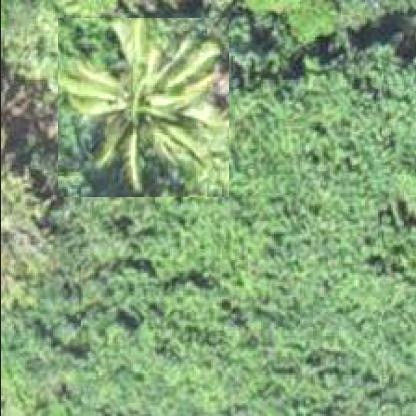coconut tree: (57, 16, 229, 196)
